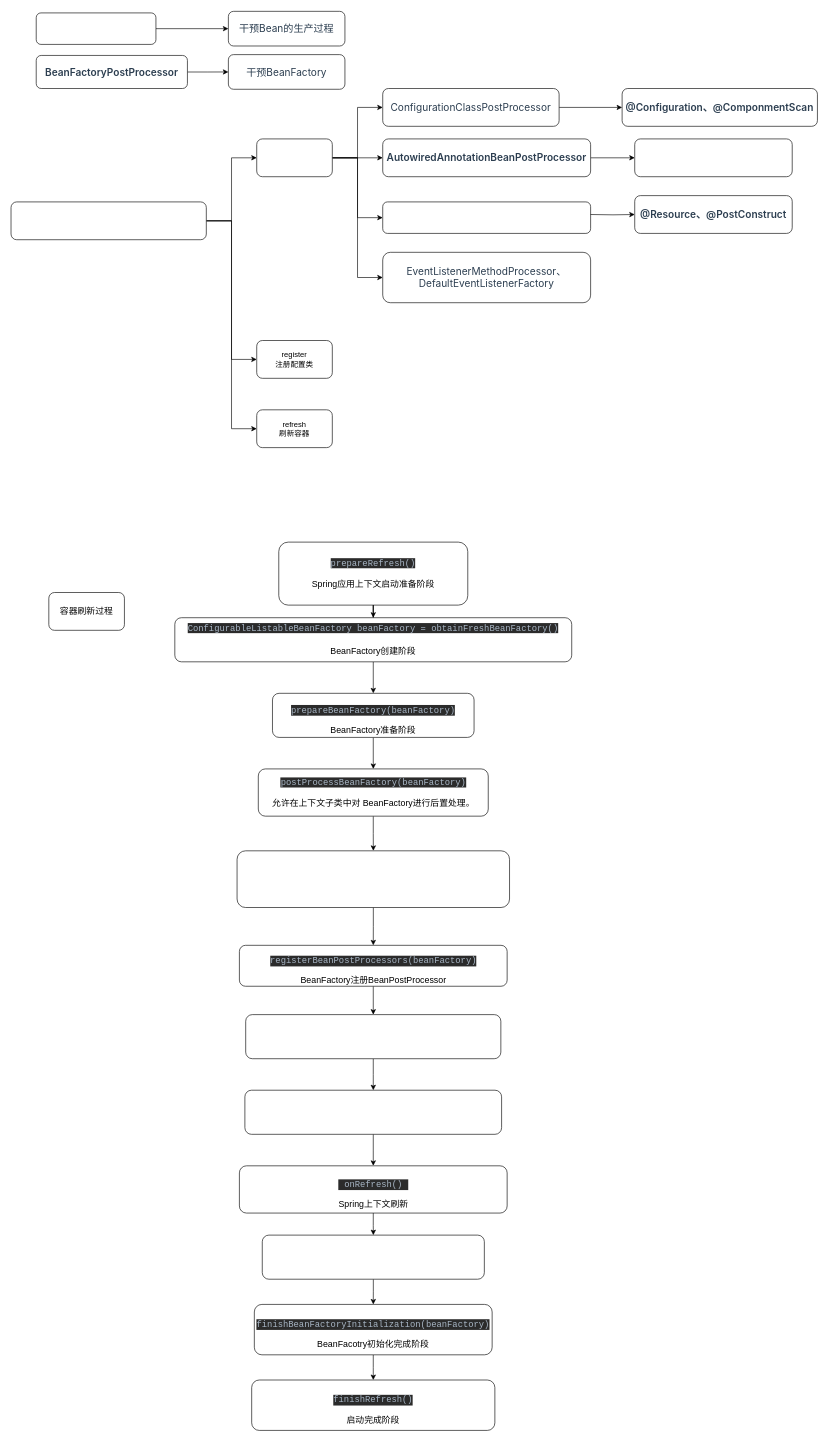
Image size: 828x1441. Some labels were removed from this diagram. Here are the shapes that lost their labels. From the top down, the centre of each, then its label:
At (x=96, y=28): "BeanPostProcessor".
At (x=294, y=157): "this() 初始化".
At (x=713, y=157): "@Autowired、 @Value".
At (x=108, y=220): "AnnotationConfigApplicationContext".
At (x=486, y=217): "CommonAnnotationBeanPostProcessor".
At (x=373, y=879): "invokeBeanFactoryPostProcessors(beanFactory) 调用BeanFactory后置处理".
At (x=373, y=1036): "initMessageSource() 初始化内置Bean：MessageSource".
At (x=373, y=1112): "initApplicationEventMulticaster() 初始化内置Bean：Spring事件广播器".
At (x=373, y=1256): "registerListeners() 监听器注册".
